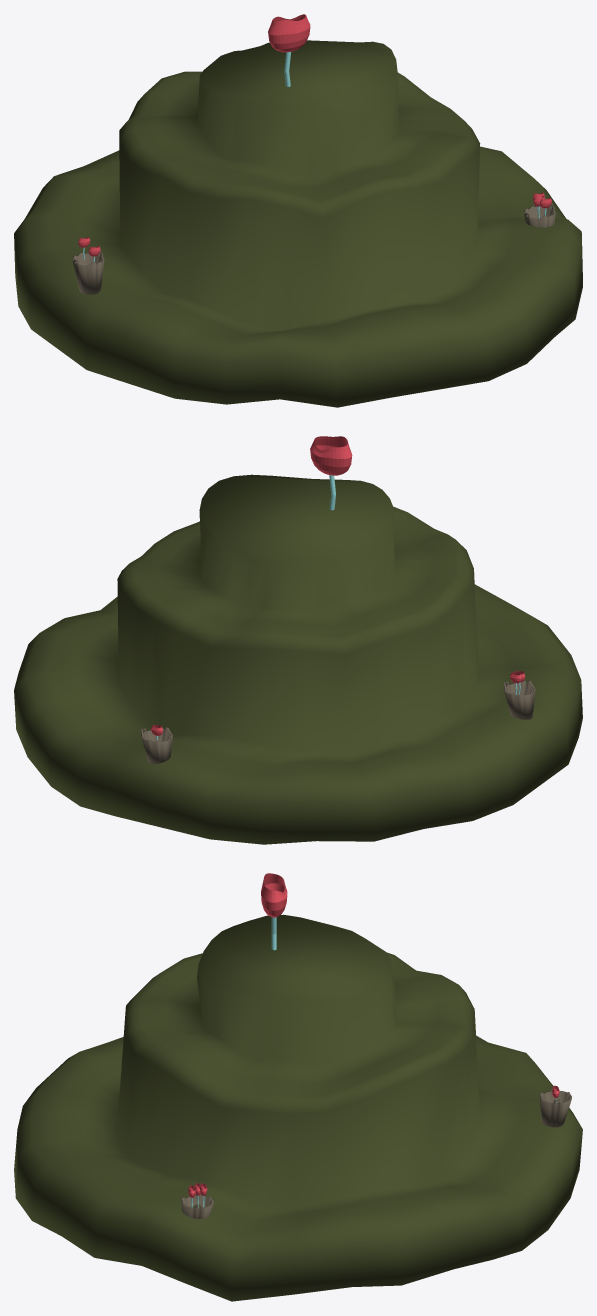
The model's file is dodai-4.glb.
3 renders of one model, top to bottom at view 1: azimuth 30°, elevation 25°; view 2: azimuth 150°, elevation 25°; view 3: azimuth 270°, elevation 25°, orthographic.
Visible parts, largest first — view 1: dodai; view 2: dodai; view 3: dodai.
Boxes of the visible parts, <box> form: dodai: <box>14,14,582,407</box>; dodai: <box>14,436,582,844</box>; dodai: <box>14,873,582,1301</box>.
Size of the model in its own units: 5.25 by 3.03 by 5.28.
